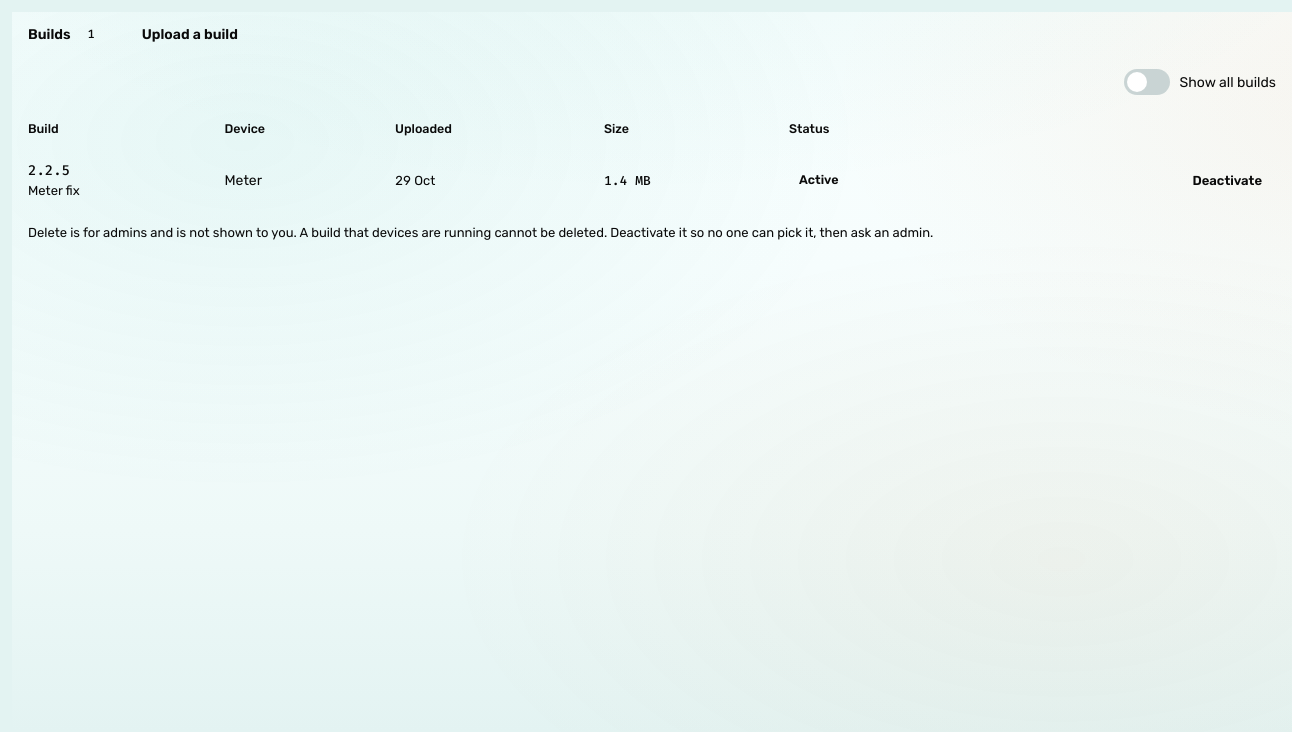
Test: OpsFirmware › B2/B3 a meter sees meter builds; show-all adds the rest
Expected: the text "2.2.5" is shown, top-left (28, 161), bottom-right (70, 180)
Expected: the text "2.2.3-3P" is not shown
Click the switch labelled "Show all builds".
click(1200, 82)  # box top-left (1124, 60), bottom-right (1276, 104)
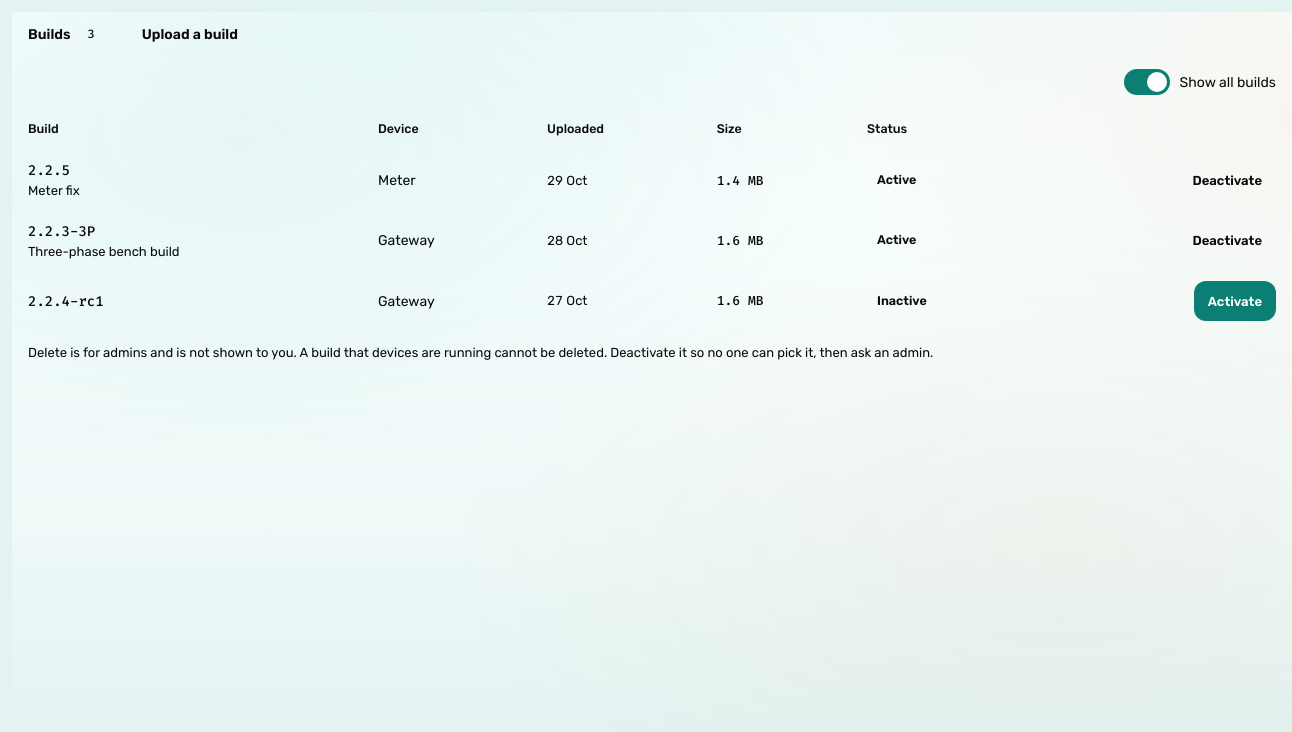
Now the text "2.2.3-3P" is shown, box top-left (28, 222), bottom-right (95, 240)
